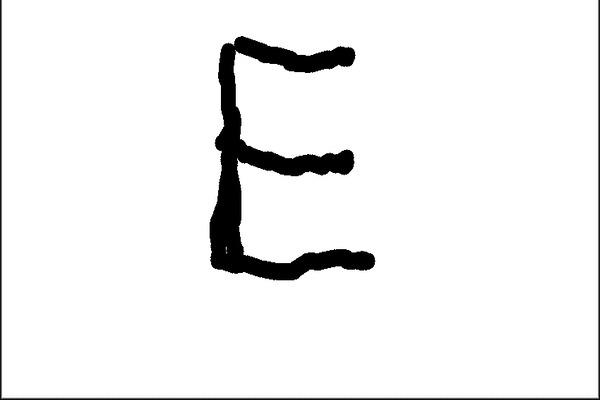E: (202, 31, 382, 284)
